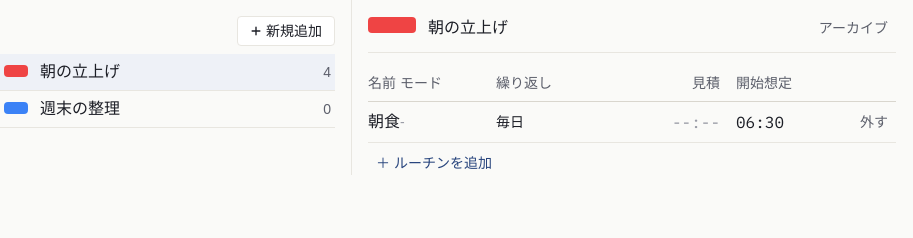
BundlesBoard（画面定義書05: 左ペインの一覧・作成・アーカイブ・削除／右ペインのヘッダ） › 保存境界の共有（00_共通 §4.2） › メンバー表のエラーは、メンバー表で新しい操作を始めると消える
The image size is (913, 238).
Click the button "外す" at [874, 122], box [852,112,896,132]
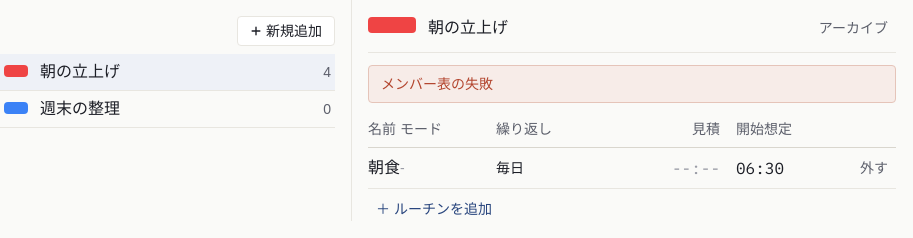
Expected: the text "メンバー表の失敗" is shown, [368,65,896,103]
Click the button "＋ ルーチンを追加" at [434, 209], box [368,199,500,219]
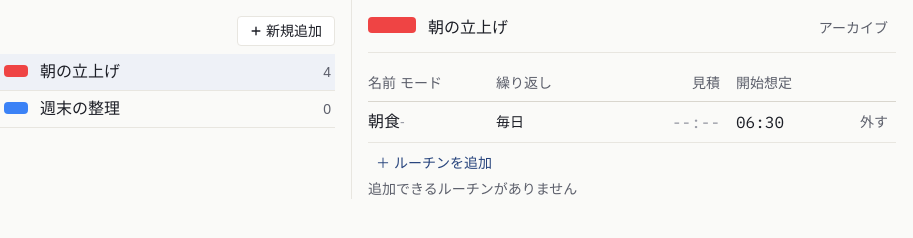
Expected: the text "メンバー表の失敗" is gone
